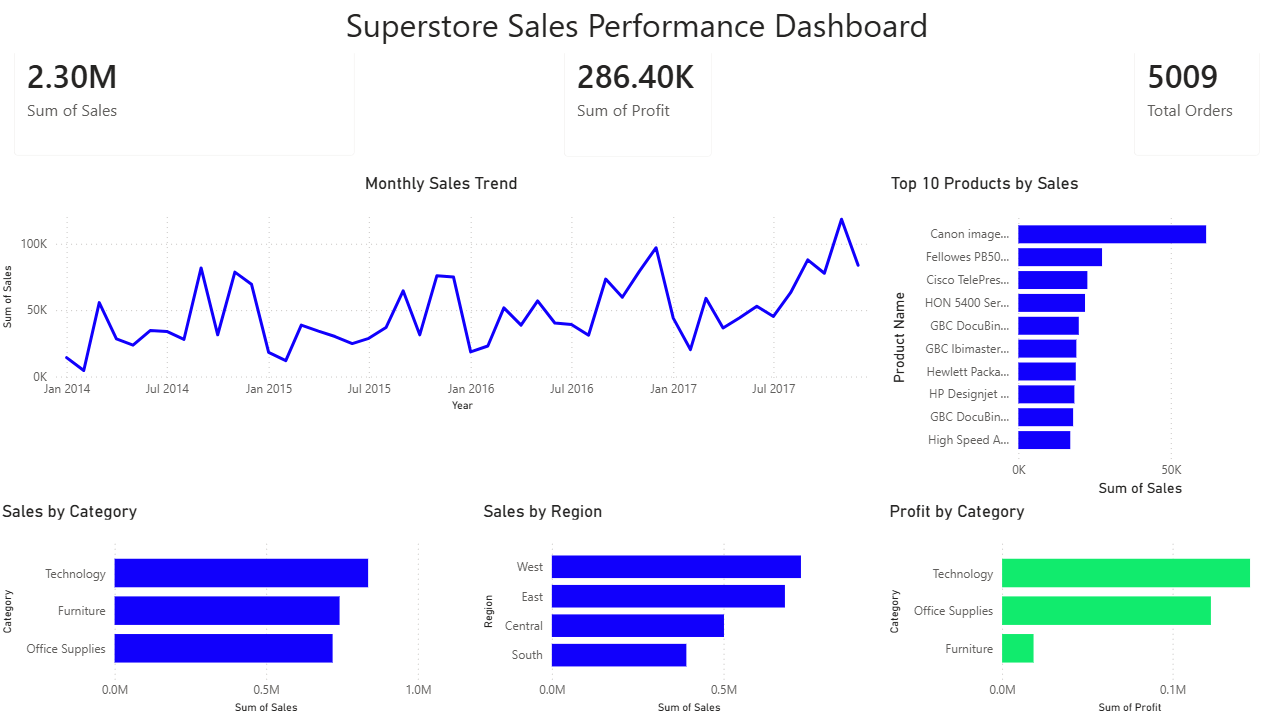

This screenshot's page, from the dashboard's own definition file:
{"tool":"powerbi","page":{"name":"Executive Dashboard","canvas":[1280,720],"ordinal":0},"visuals":[{"type":"cardVisual","fields":{"Data":["Sum(Superstore.Sales)"]},"box":[0,0,375.7,175.7],"z":0},{"type":"cardVisual","fields":{"Data":["Sum(Superstore.Profit)"]},"box":[550,0,182,176],"z":1000},{"type":"cardVisual","fields":{"Data":["Superstore.Total Orders"]},"box":[1120,0,160,175.4],"z":2000},{"type":"lineChart","title":"Monthly Sales Trend","fields":{"Y":["Sum(Superstore.Sales)"],"Category":["Superstore.Order Date.Variation.Date Hierarchy.Year","Superstore.Order Date.Variation.Date Hierarchy.Quarter","Superstore.Order Date.Variation.Date Hierarchy.Month","Superstore.Order Date.Variation.Date Hierarchy.Day"]},"box":[0,175,888.3,243.3],"z":3000},{"type":"clusteredBarChart","title":"Sales by Category","fields":{"Category":["Superstore.Category"],"Y":["Sum(Superstore.Sales)"]},"box":[0,502.5,440,217.5],"z":4000},{"type":"clusteredBarChart","title":"Sales by Region","fields":{"Category":["Superstore.Region"],"Y":["Sum(Superstore.Sales)"]},"box":[481.2,502.5,367.5,217.5],"z":5000},{"type":"clusteredBarChart","title":"Profit by Category","fields":{"Category":["Superstore.Category"],"Y":["Sum(Superstore.Profit)"]},"box":[887.5,502.5,392.5,217.5],"z":6000},{"type":"clusteredBarChart","title":"Top 10 Products by Sales","fields":{"Category":["Superstore.Product Name"],"Y":["Sum(Superstore.Sales)"]},"box":[888.3,175,391.7,328.3],"z":7000},{"type":"textbox","box":[0,0,1280,55],"z":8000}]}

Visuals, with their boxes in screenshot pixels (x1, y1, x2, y2), scaled from the page's 1280x720 canvas onto the 1270x715 screenshot:
cardVisual - Sum(Superstore.Sales): bbox(0, 0, 373, 174)
cardVisual - Sum(Superstore.Profit): bbox(546, 0, 726, 175)
cardVisual - Superstore.Total Orders: bbox(1111, 0, 1269, 174)
"Monthly Sales Trend" lineChart: bbox(0, 174, 881, 415)
"Sales by Category" clusteredBarChart: bbox(0, 499, 437, 714)
"Sales by Region" clusteredBarChart: bbox(477, 499, 842, 714)
"Profit by Category" clusteredBarChart: bbox(881, 499, 1269, 714)
"Top 10 Products by Sales" clusteredBarChart: bbox(881, 174, 1269, 500)
textbox: bbox(0, 0, 1269, 55)
